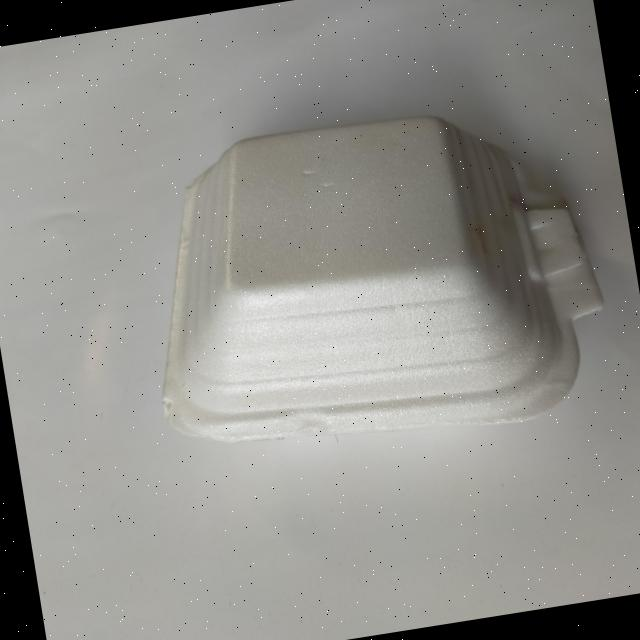styrofoam: (120, 84, 622, 478)
